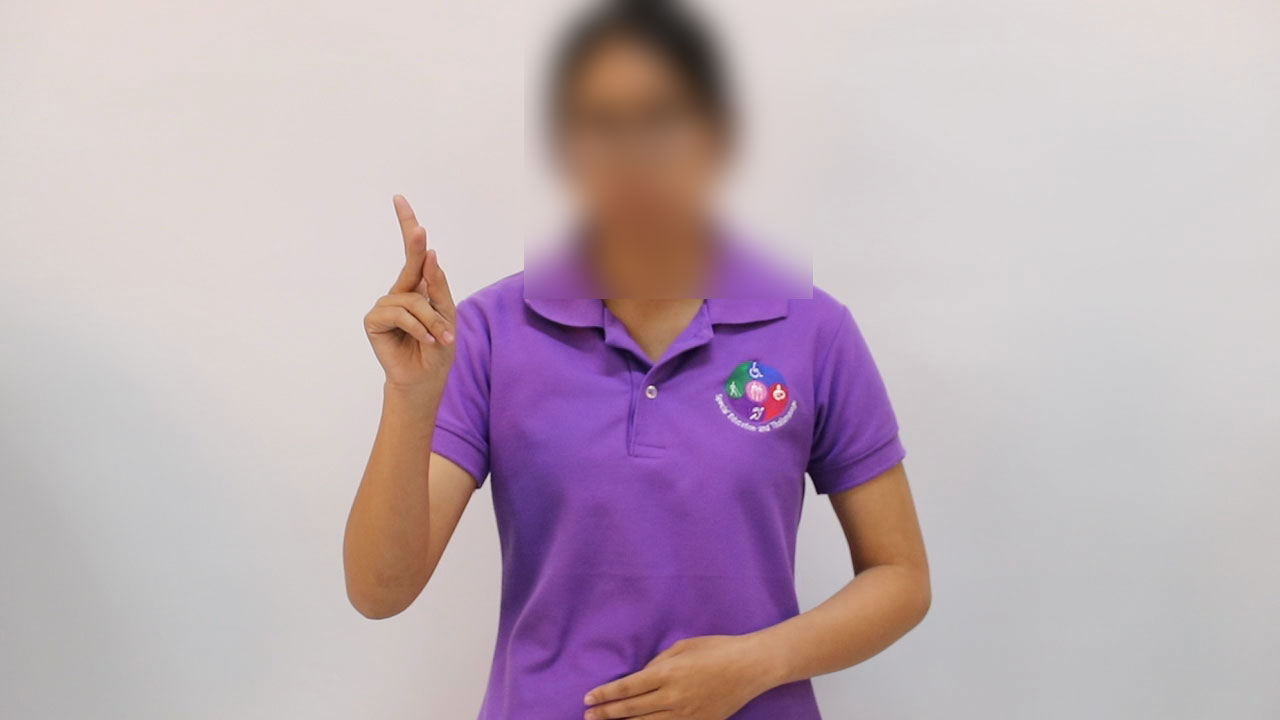ko: (347, 189, 474, 395)
